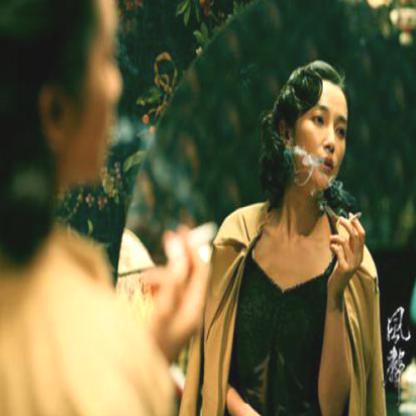cigarette: (348, 211, 362, 223)
person: (195, 62, 370, 416)
smoke: (292, 147, 320, 168), (330, 181, 358, 201)
